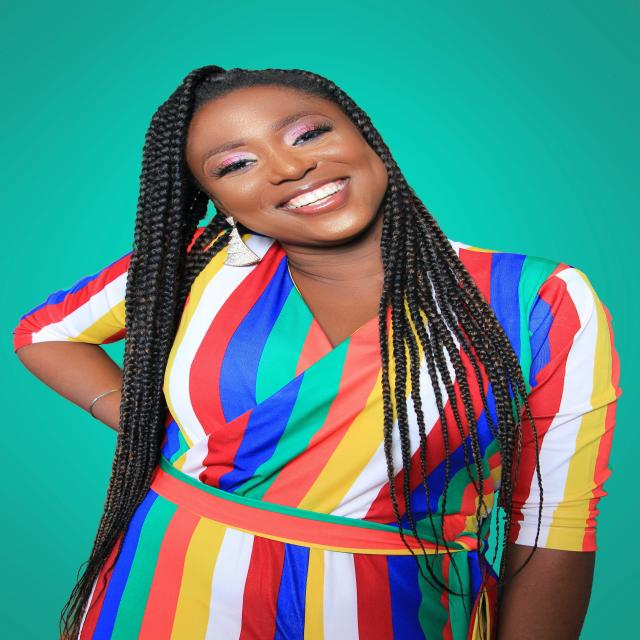adult: (18, 59, 624, 640)
